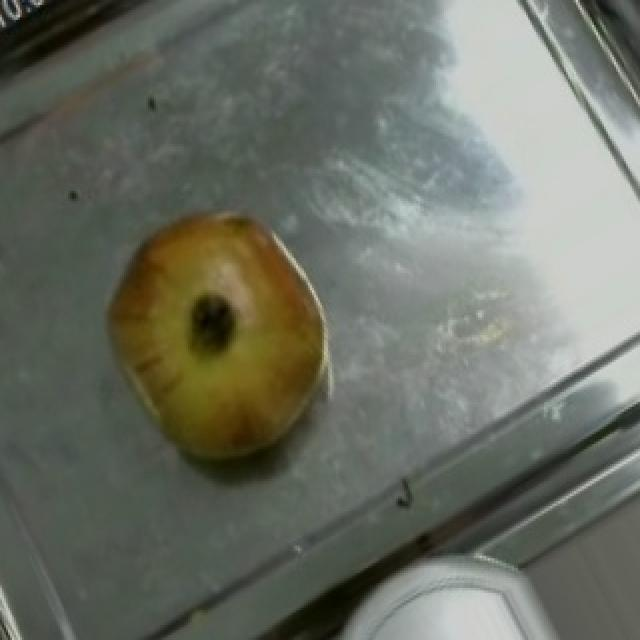fruit: (78, 178, 362, 468)
